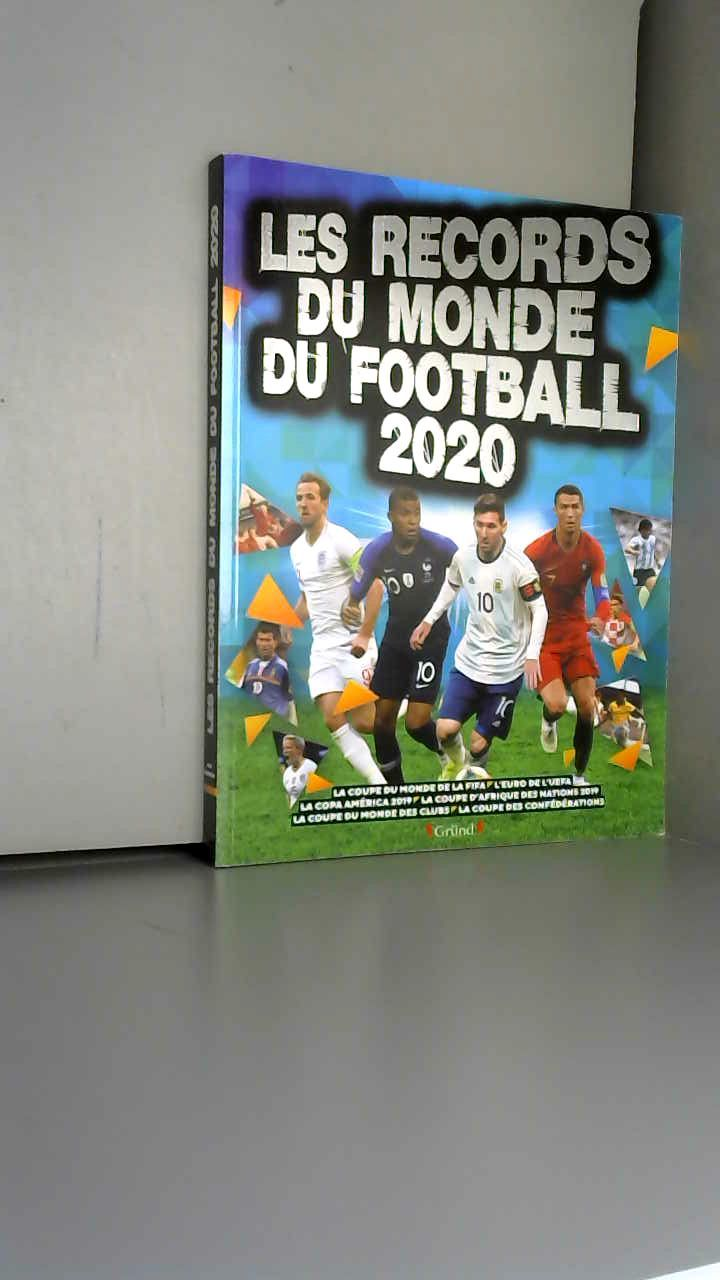book: (170, 130, 716, 891)
